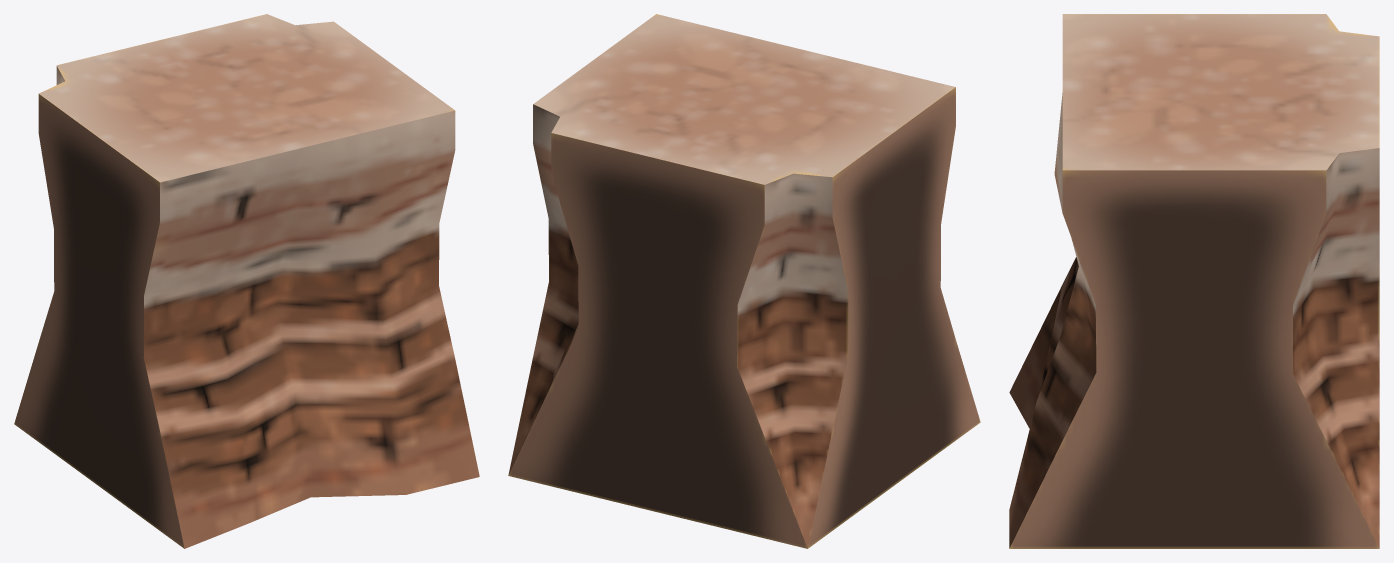
Rendered from Tile_3.fbx.
3 renders of one model, left to right at view 1: azimuth 30°, elevation 25°; view 2: azimuth 150°, elevation 25°; view 3: azimuth 270°, elevation 25°, orthographic. The views are drawn at different scales.
Parts seen in each view (by area): view 1: 3; view 2: 3; view 3: 3.
Boxes of the visible parts, x1,y1,x2,y2 form: 3: [14, 14, 479, 548]; 3: [508, 14, 980, 548]; 3: [1009, 14, 1379, 548].
Bounding box in the file's own units: 3.01 × 3.38 × 3.
